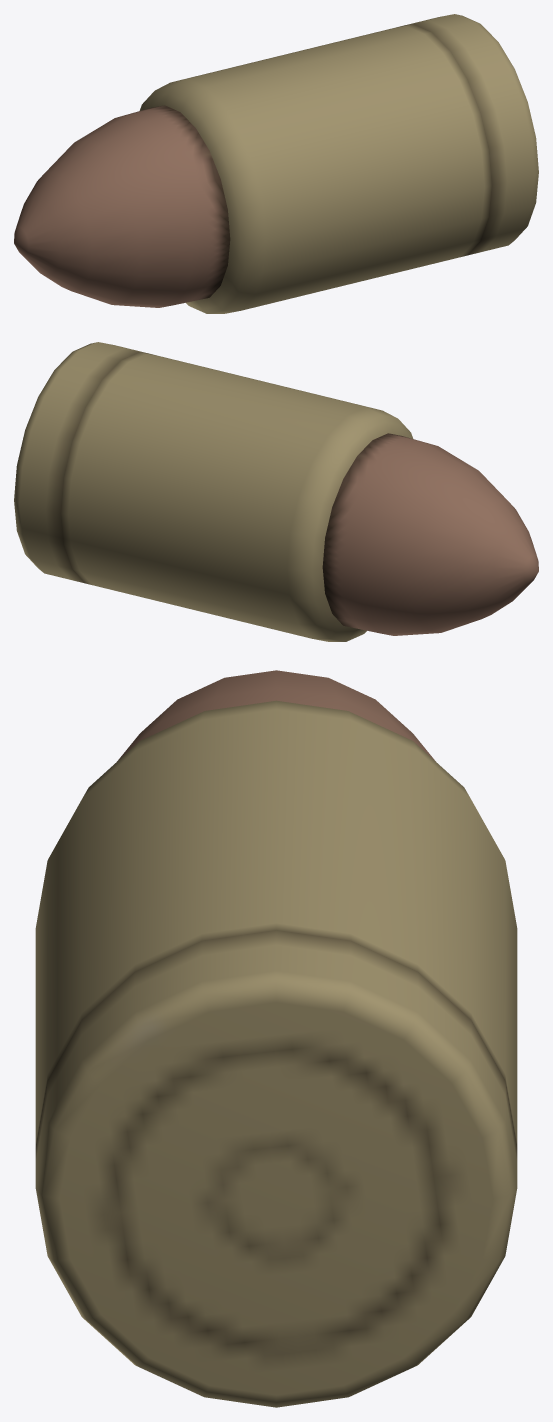
File: sm_projectile_gun_02.fbx
The picture shows the model from 3 angles, top to bottom: view 1: azimuth 30°, elevation 25°; view 2: azimuth 150°, elevation 25°; view 3: azimuth 270°, elevation 25°; orthographic projection. The views are drawn at different scales.
Visible parts, largest first — view 1: sm_projectile_gun_02; view 2: sm_projectile_gun_02; view 3: sm_projectile_gun_02.
Boxes of the visible parts, bbox=[...] form: sm_projectile_gun_02: bbox=[14, 14, 538, 313]; sm_projectile_gun_02: bbox=[14, 342, 538, 641]; sm_projectile_gun_02: bbox=[35, 670, 517, 1407].
Bounding box in the file's own units: 10.71 × 4.75 × 4.75.
